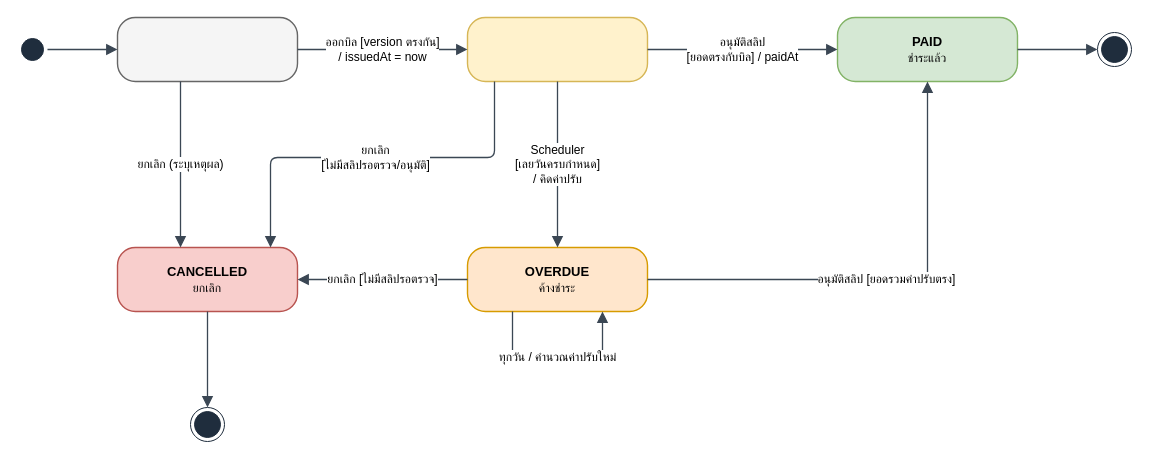
Some shapes in this 1149 by 460 pixel diagram are drawn without their labels. The centre of each missing label's shape, as x and y in pixels:
DRAFT ร่างบิล: [207,49]
PENDING รอชำระ: [557,49]
